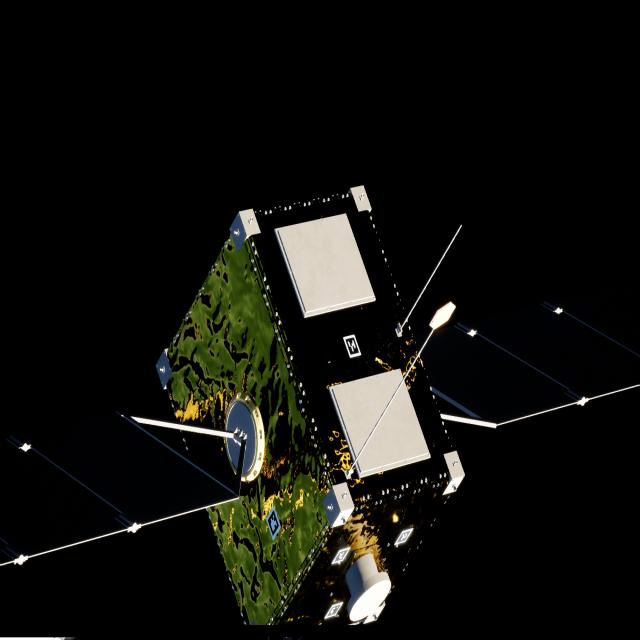satellite: (0, 186, 640, 627)
